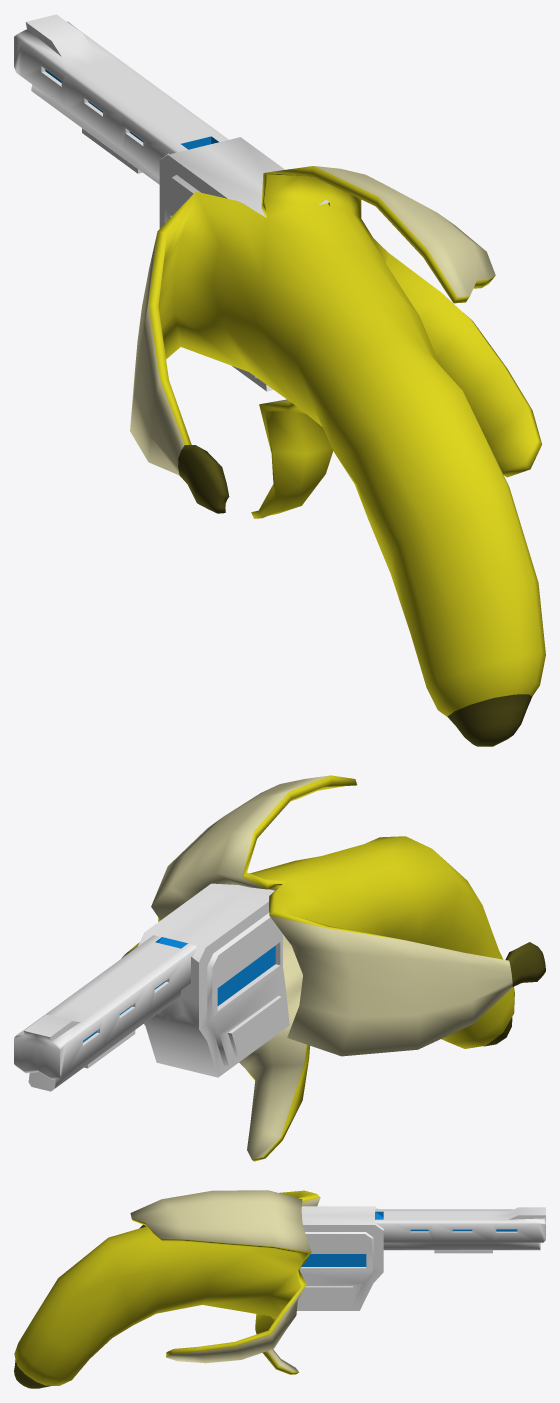
Rendered from Banagnum.fbx.
3 renders of one model, top to bottom at view 1: azimuth 30°, elevation 25°; view 2: azimuth 150°, elevation 25°; view 3: azimuth 270°, elevation 25°, orthographic. The views are drawn at different scales.
Parts seen in each view (by area): view 1: Banana_Peel, Cube; view 2: Banana_Peel, Cube; view 3: Banana_Peel, Cube.
Part boxes in pixels (<box>): Banana_Peel: <box>130,166,545,746</box>; Cube: <box>14,14,329,391</box>; Banana_Peel: <box>121,775,545,1161</box>; Cube: <box>14,883,289,1091</box>; Banana_Peel: <box>14,1190,320,1388</box>; Cube: <box>297,1206,545,1310</box>.
Size of the model in its own units: 247 by 247 by 558.
